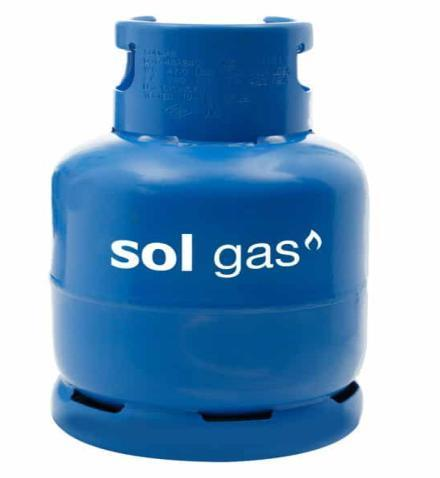cylinder: (1, 1, 440, 478)
